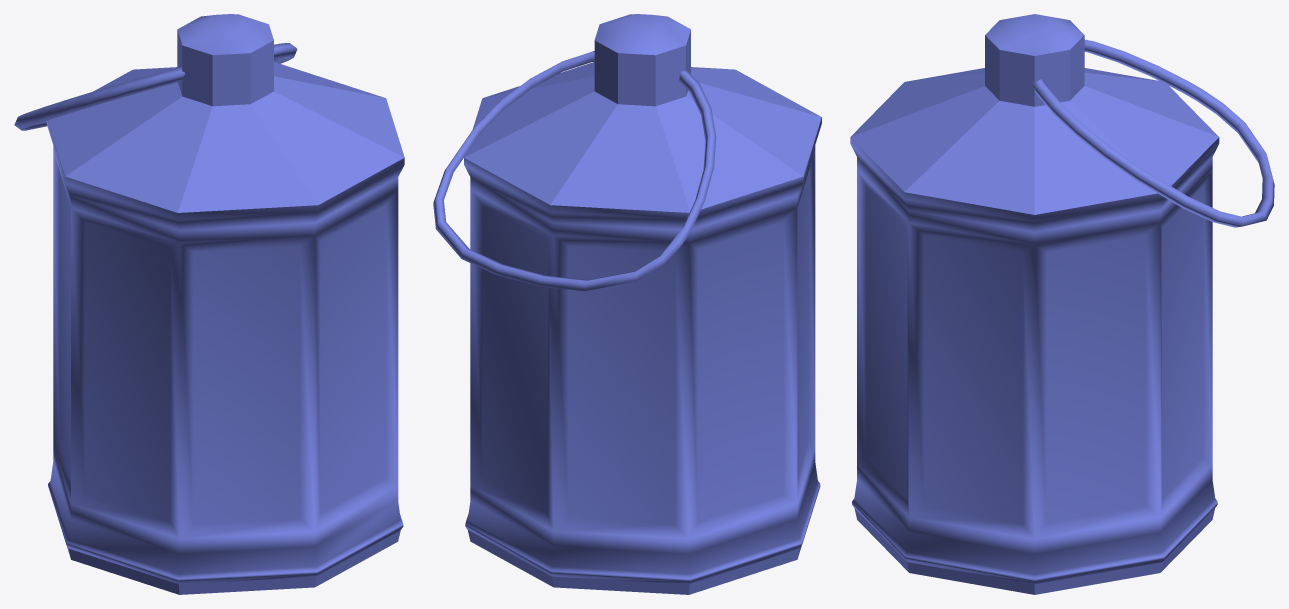
File: Lantern-3.fbx
3 renders of one model, left to right at view 1: azimuth 30°, elevation 25°; view 2: azimuth 150°, elevation 25°; view 3: azimuth 270°, elevation 25°, orthographic.
Parts seen in each view (by area): view 1: LAMP_LOW; view 2: LAMP_LOW; view 3: LAMP_LOW.
Part boxes in pixels (<box>): LAMP_LOW: <box>14,14,404,594</box>; LAMP_LOW: <box>433,14,821,594</box>; LAMP_LOW: <box>850,14,1274,594</box>.
Size of the model in its own units: 22.96 by 34.17 by 26.4.
